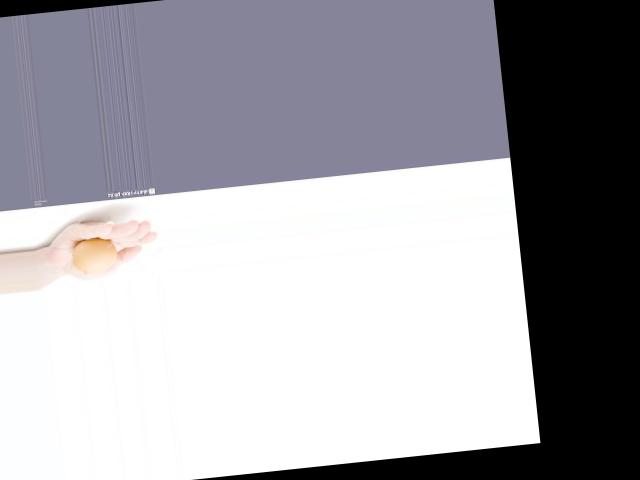egg: (69, 236, 118, 276)
